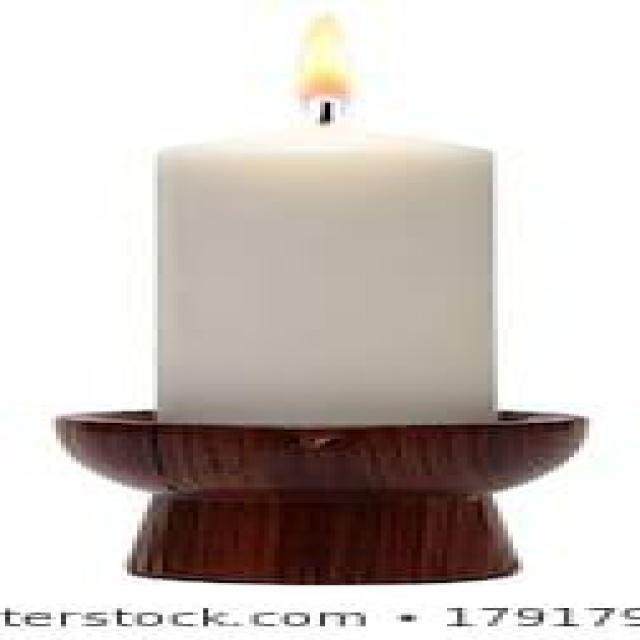Fire: (300, 13, 350, 108)
